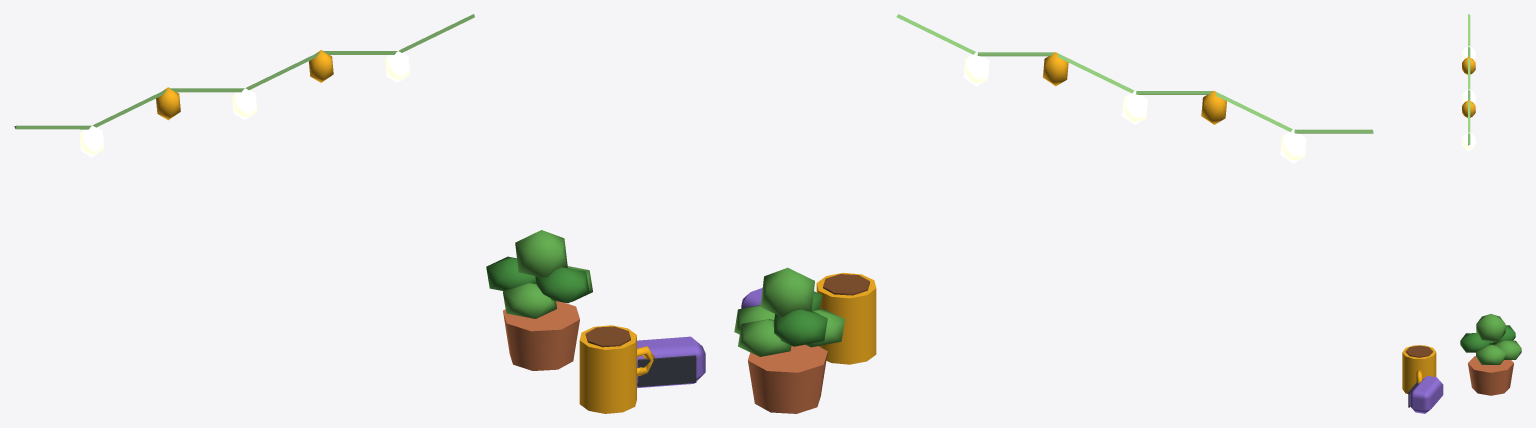
File: station_intake_ausstattung_3_2.glb
3 renders of one model, left to right at view 1: azimuth 30°, elevation 25°; view 2: azimuth 150°, elevation 25°; view 3: azimuth 270°, elevation 25°, orthographic. The views are drawn at different scales.
Visible parts, largest first — view 1: station_intake_ausstattung_3_2; view 2: station_intake_ausstattung_3_2; view 3: station_intake_ausstattung_3_2.
Part boxes in pixels (x1,y1,x2,y2): station_intake_ausstattung_3_2: (14, 14, 705, 413); station_intake_ausstattung_3_2: (734, 14, 1373, 413); station_intake_ausstattung_3_2: (1402, 14, 1521, 413).
Bounding box in the file's own units: 1.27 × 0.7132 × 0.3499.
